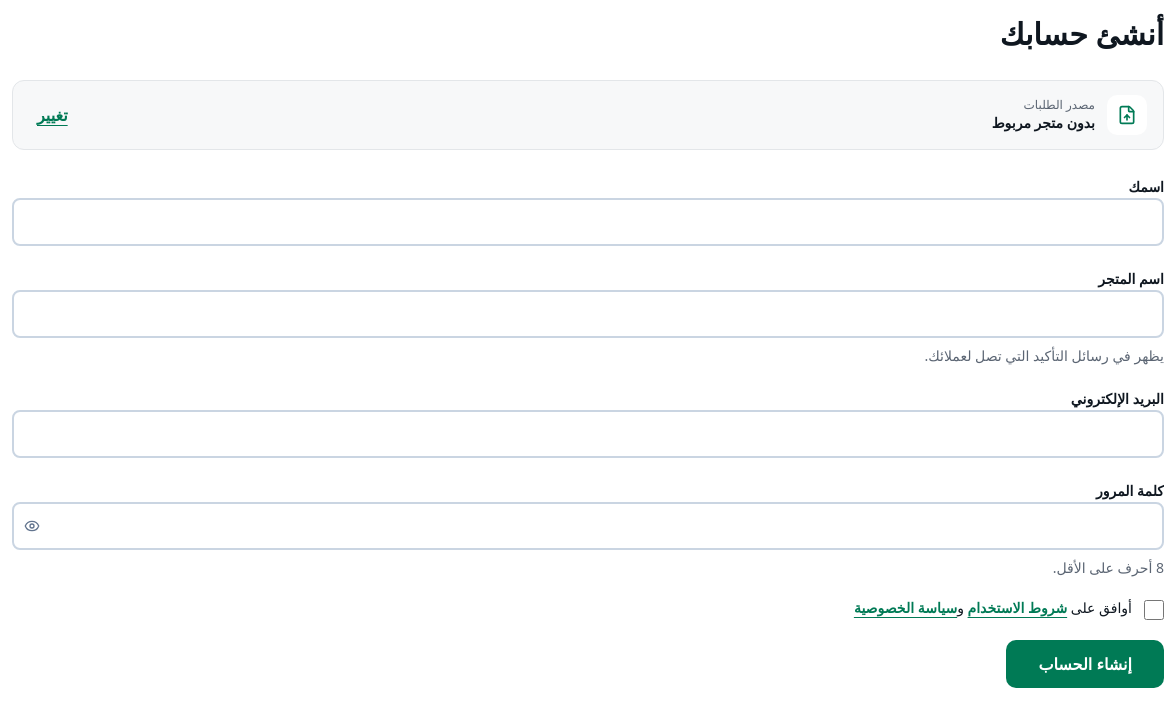
it: SignupForm › shows a form-level alert when Supabase fails
In the field with id "signup-full-name": (588, 222) [12, 198, 1164, 246], type "أحمد حافظ"
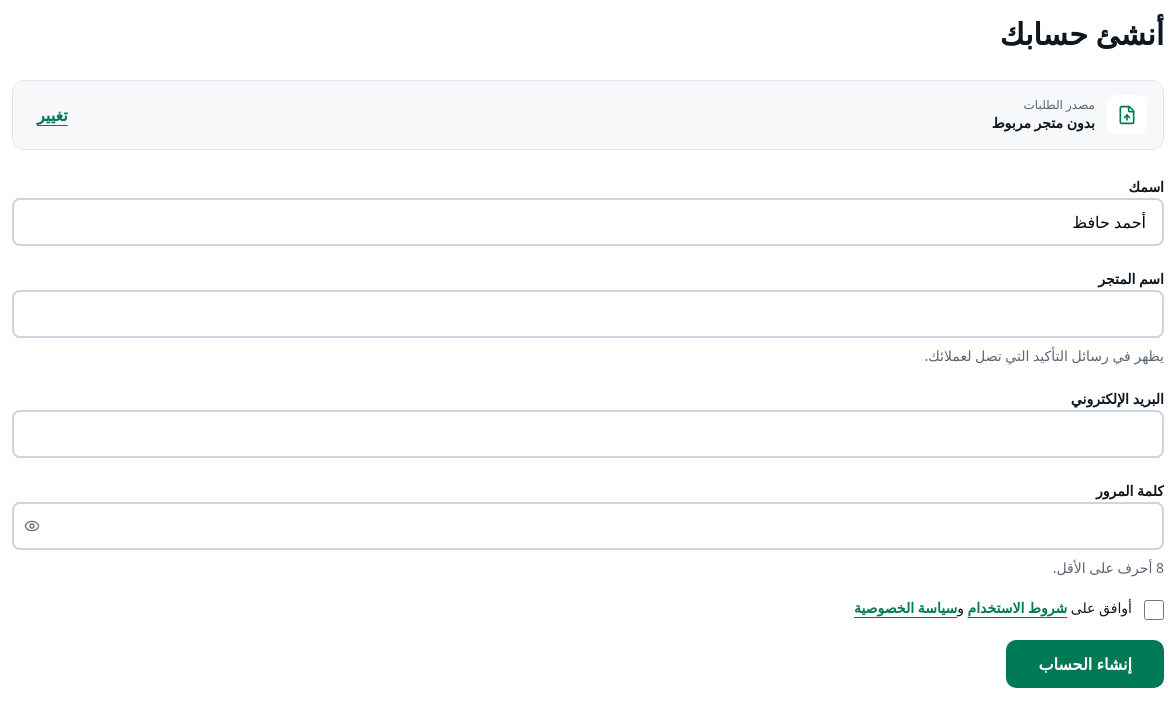
In the field with id "signup-store-name": (588, 314) [12, 290, 1164, 338], type "متجر نور"
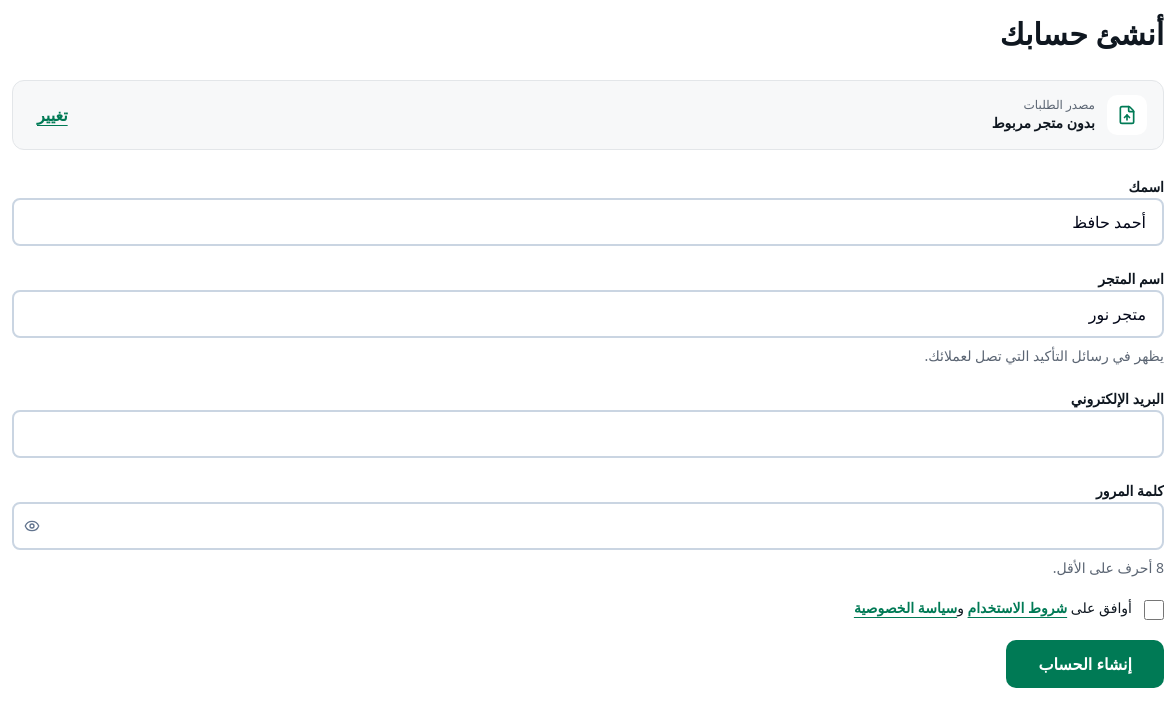
In the field with id "signup-email": (588, 434) [12, 410, 1164, 458], type "ahmed@noorstore.com"
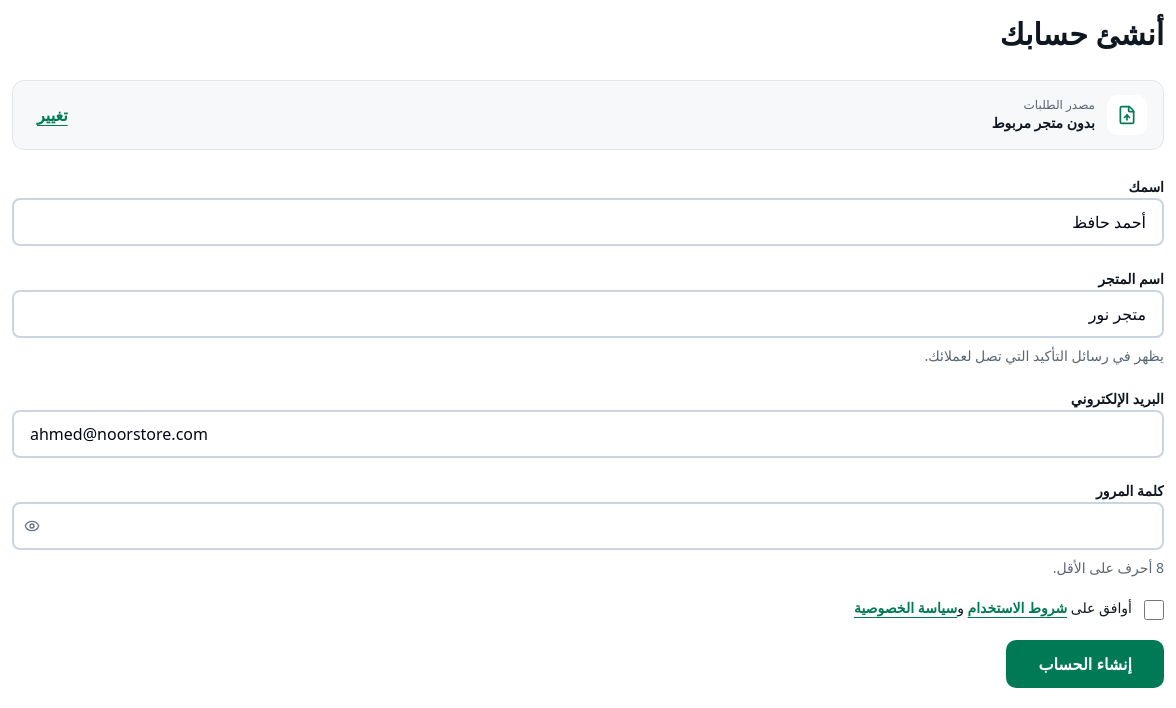
In the password field with id "signup-password": (588, 526) [12, 502, 1164, 550], type "secret-pass"
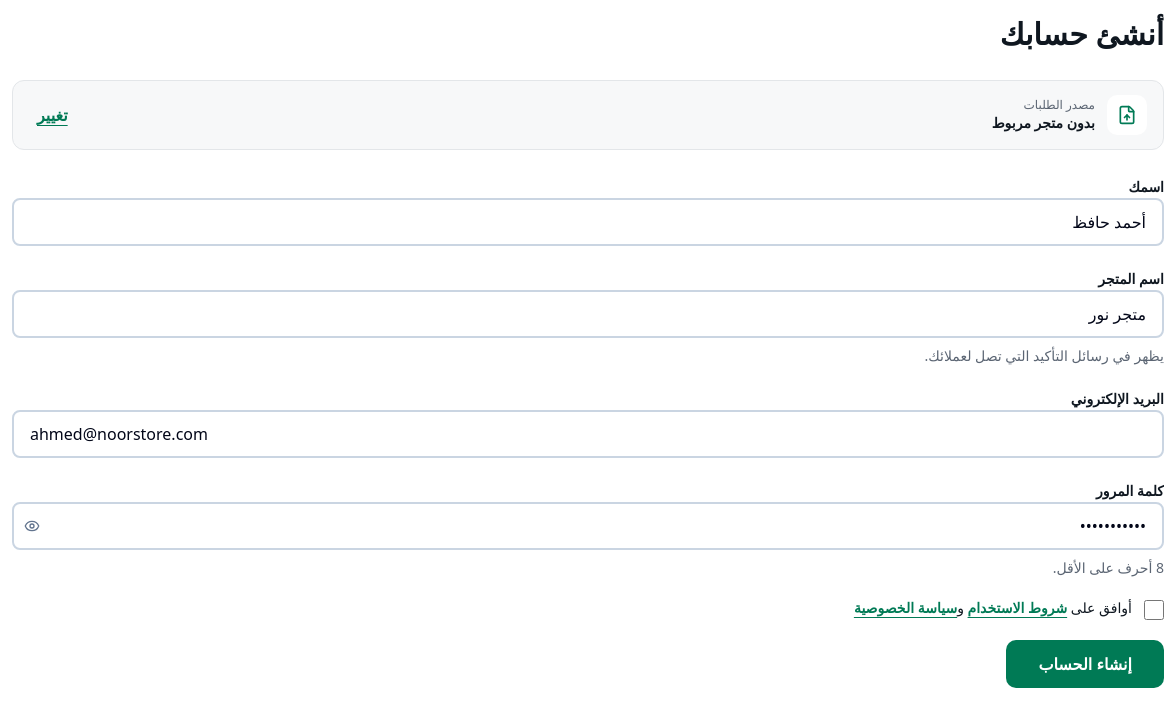
Click the checkbox with id "signup-terms": (1154, 610) [1144, 600, 1164, 620]
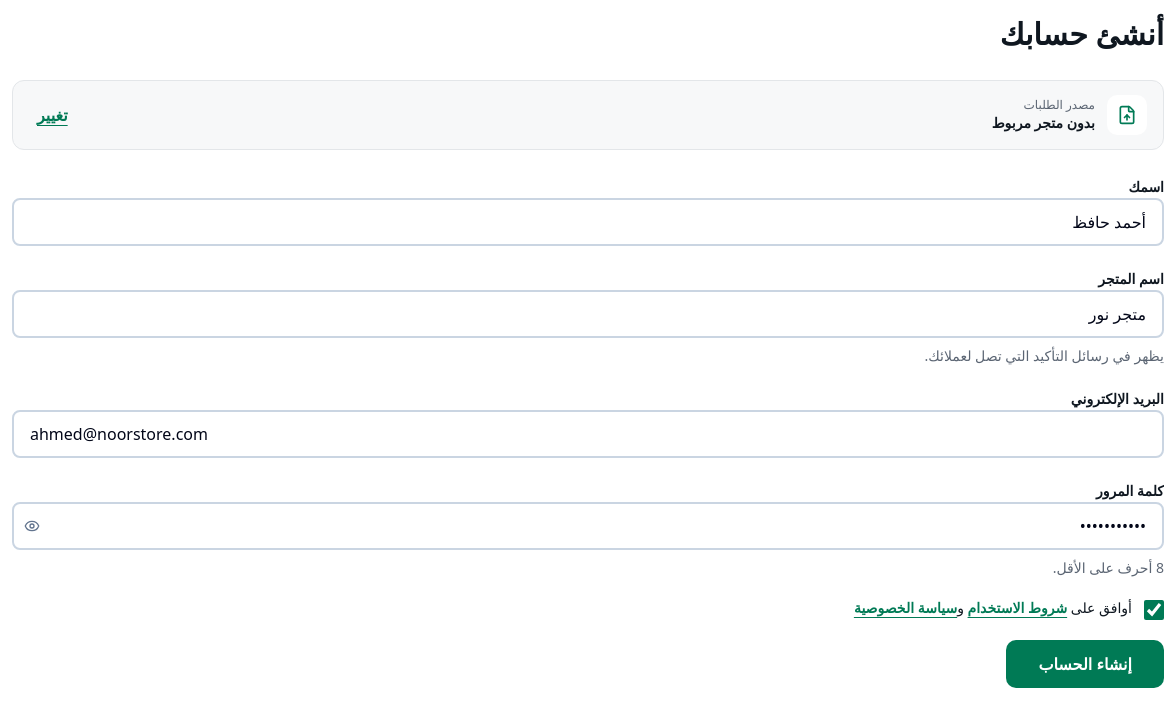
Click the button "إنشاء الحساب": (1085, 664) [1006, 640, 1164, 688]
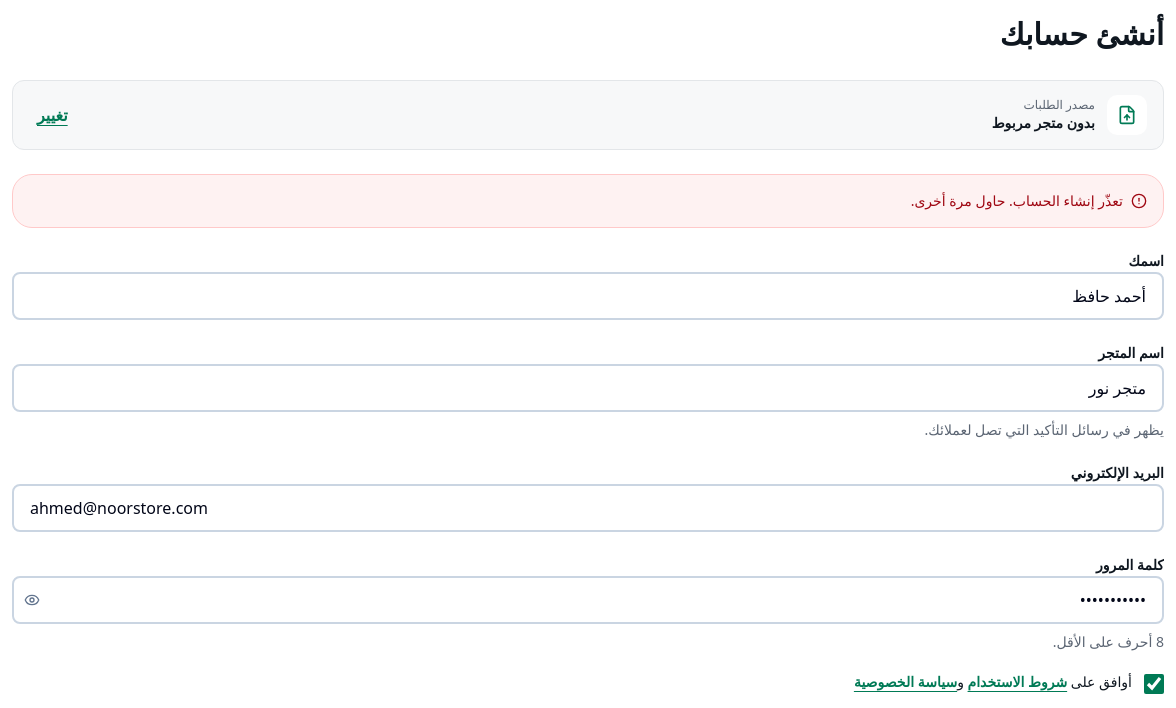
Result: the message reads "تعذّر إنشاء الحساب. حاول مرة أخرى." at [911, 190, 1123, 210]
